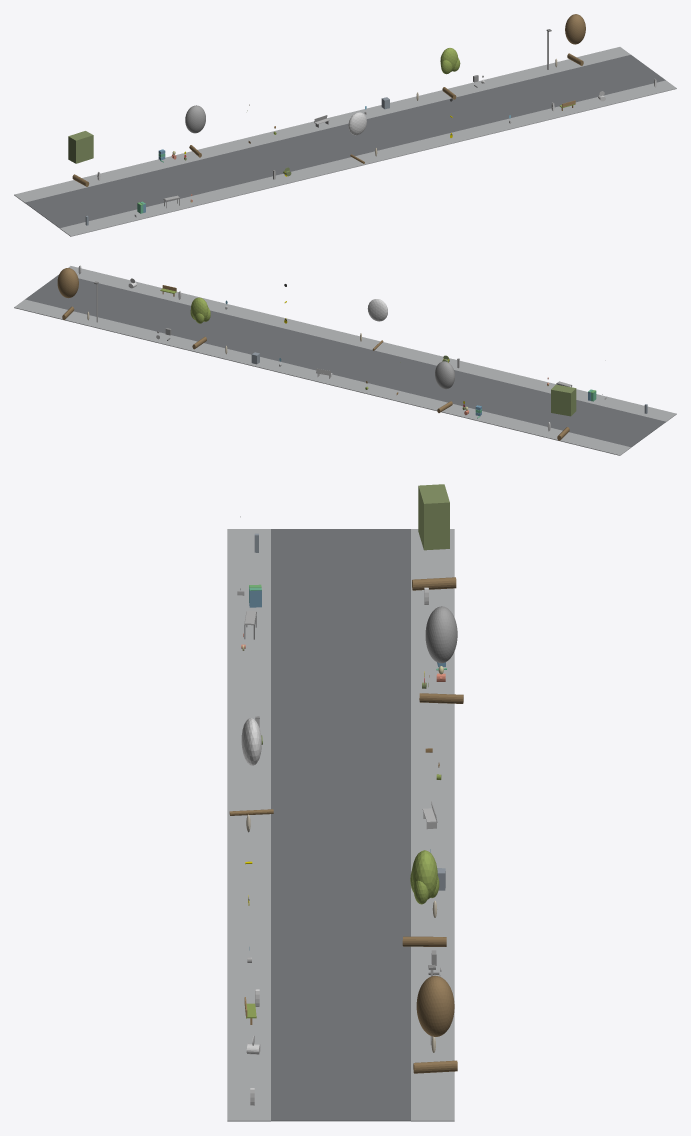
3 renders of one model, top to bottom at view 1: azimuth 30°, elevation 25°; view 2: azimuth 150°, elevation 25°; view 3: azimuth 270°, elevation 25°, orthographic. The views are drawn at different scales.
Visible parts, largest first — view 1: road_slab, sidewalk_left, sidewalk_right, inst_0012, inst_0016, inst_0013, inst_0015, inst_0014; view 2: road_slab, sidewalk_right, sidewalk_left, inst_0012, inst_0016, inst_0013, inst_0015, inst_0014; view 3: road_slab, sidewalk_left, sidewalk_right, inst_0012, inst_0016, inst_0013, inst_0015, inst_0014.
Part boxes in pixels (x1,y1,x2,y2): road_slab: (25, 55, 665, 228); sidewalk_left: (60, 80, 676, 236); sidewalk_right: (14, 47, 630, 202); inst_0012: (68, 131, 93, 186); inst_0016: (565, 14, 585, 65); inst_0013: (185, 105, 205, 157); inst_0015: (440, 48, 460, 99); inst_0014: (348, 112, 366, 163); road_slab: (25, 275, 665, 447); sidewalk_right: (14, 299, 630, 455); sidewalk_left: (68, 266, 676, 421); inst_0012: (551, 384, 576, 440); inst_0016: (57, 268, 78, 320); inst_0013: (435, 361, 454, 412); inst_0015: (190, 297, 210, 349); inst_0014: (367, 299, 387, 350); road_slab: (271, 529, 410, 1121); sidewalk_left: (227, 529, 270, 1121); sidewalk_right: (411, 529, 454, 1121); inst_0012: (412, 484, 456, 590); inst_0016: (413, 975, 457, 1073); inst_0013: (419, 606, 463, 703); inst_0015: (402, 850, 446, 946); inst_0014: (229, 718, 273, 815).
Size of the model in its own units: 80 by 6.08 by 13.51.
